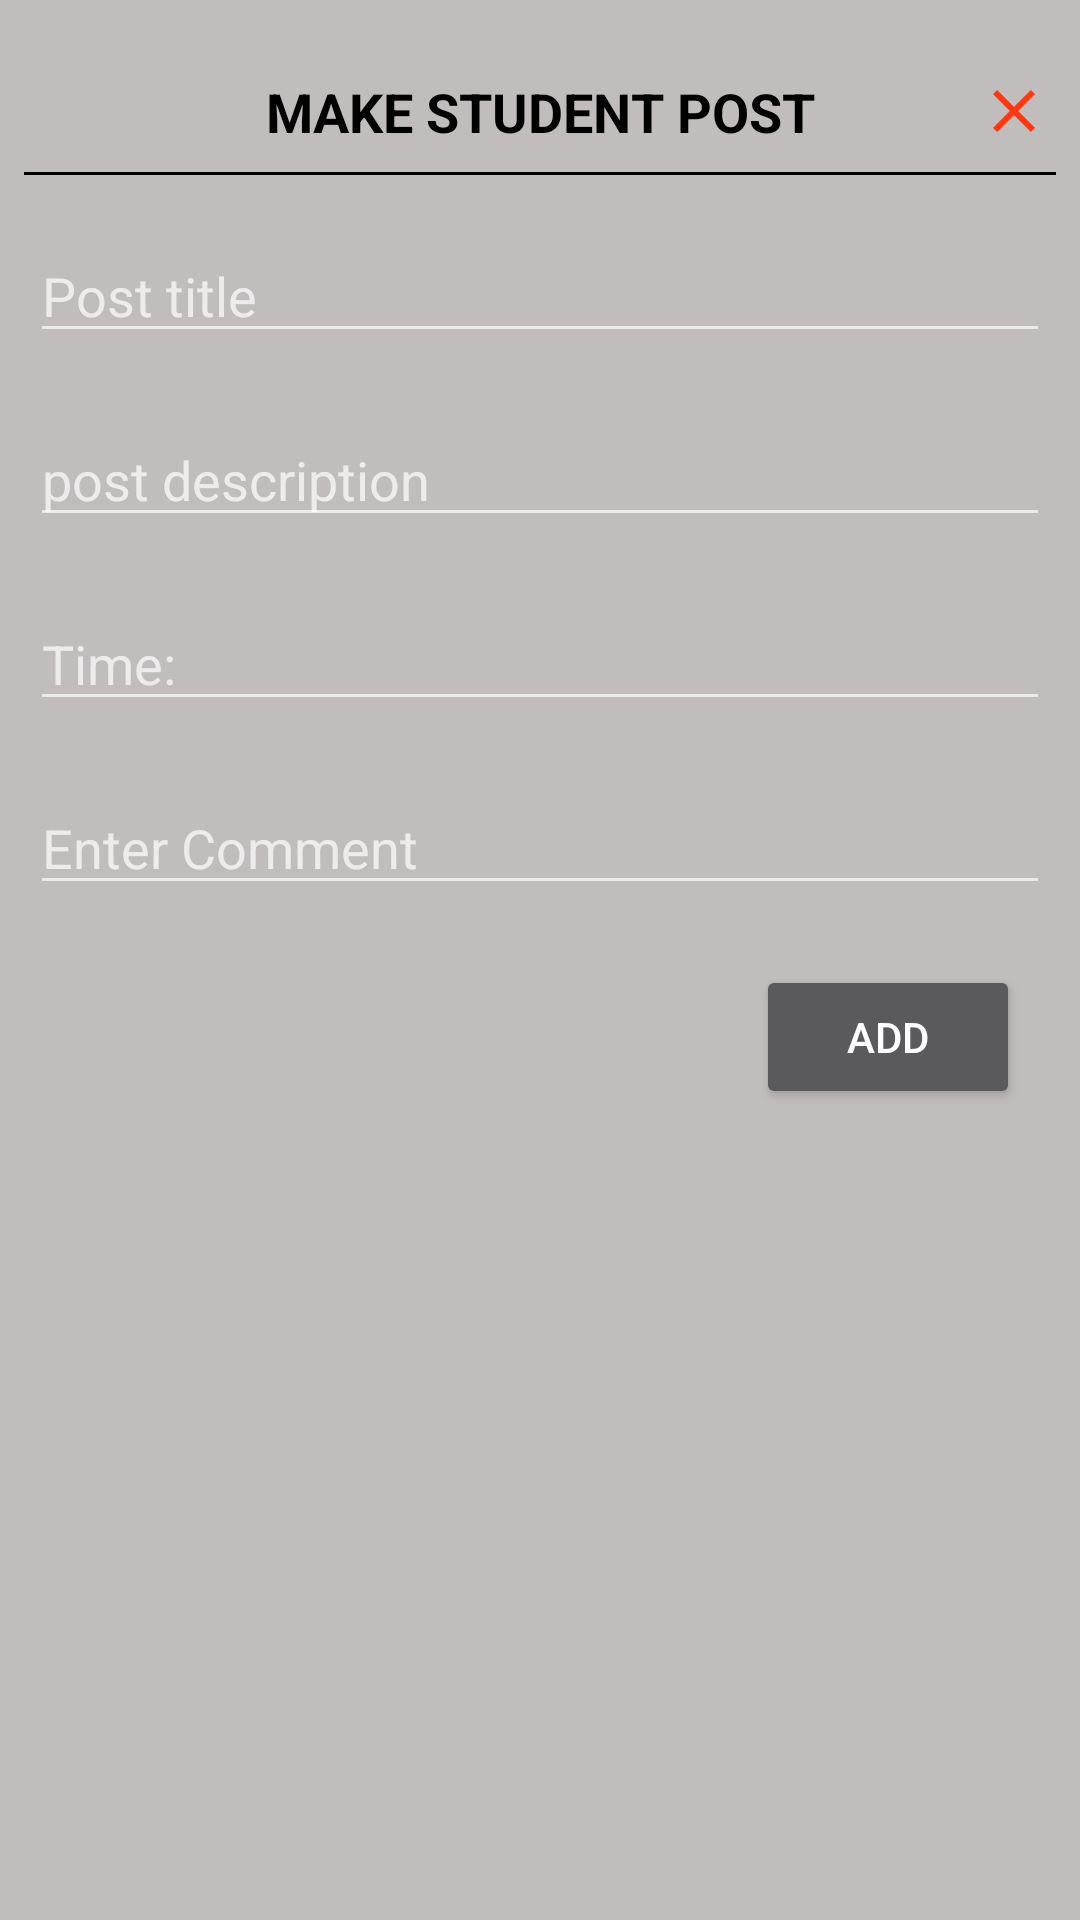

Where to tap for icons on this 1080×1920 app screen, as (x=x, y=y):
close: (x=1014, y=111)
